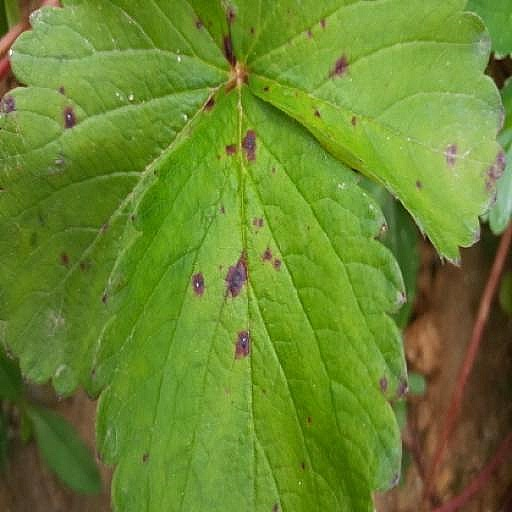Leaf Spot: (101, 79, 422, 511), (276, 0, 511, 404), (2, 0, 287, 270)
